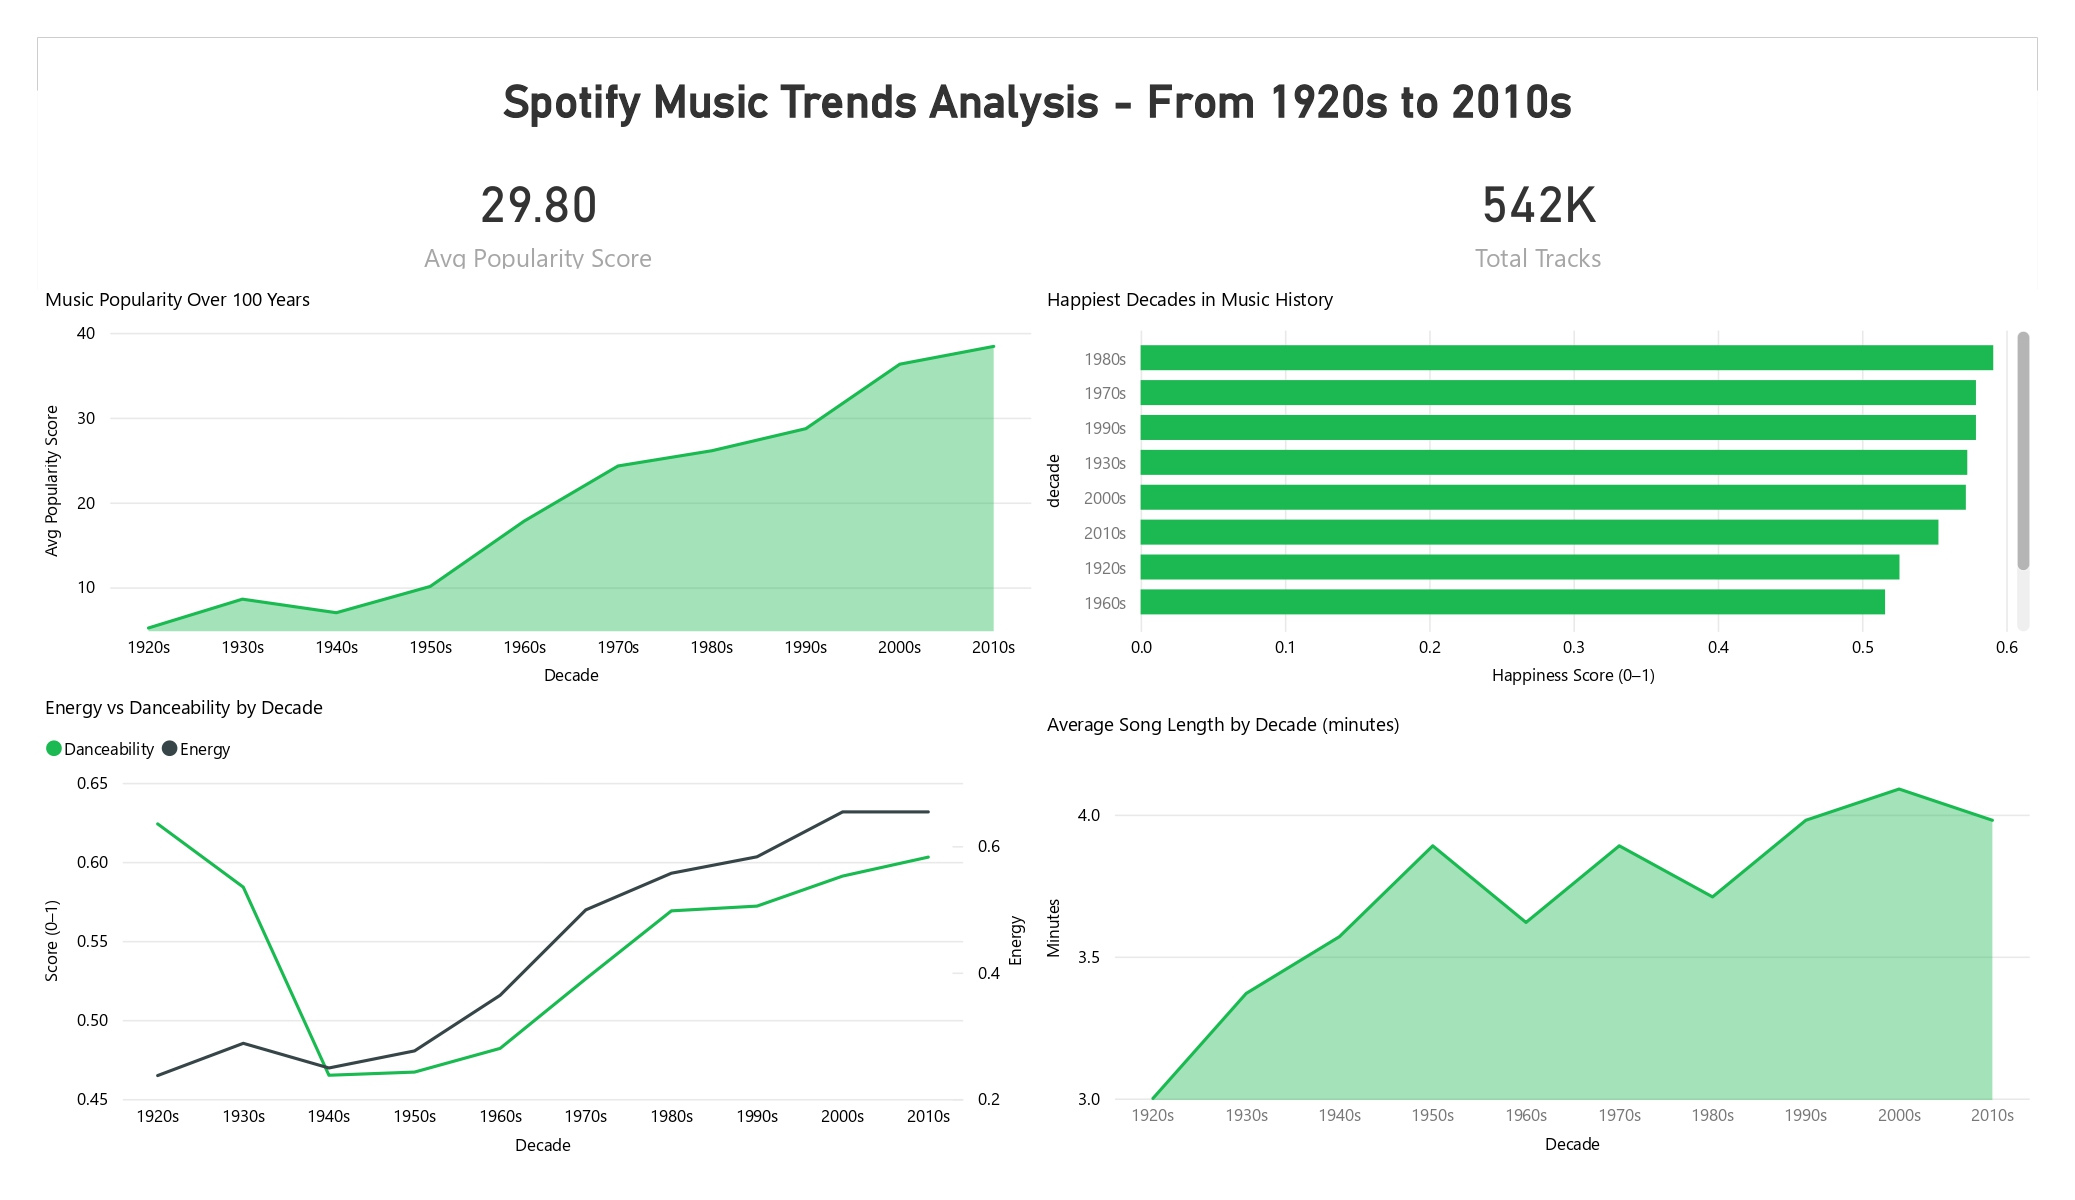

The page's visual inventory and layout, read from the dashboard file:
{"tool":"powerbi","page":{"name":"Music Trends","canvas":[1280,720],"ordinal":0},"visuals":[{"type":"textbox","box":[10,290,280,280],"z":0},{"type":"card","fields":{"Values":["results_audio_trends.Avg Popularity Score"]},"box":[0,75.5,640.8,77.6],"z":1000},{"type":"textbox","box":[0,0,1279.6,63.3],"z":2000},{"type":"lineChart","title":"Music Popularity Over 100 Years","fields":{"Category":["results_popularity_by_decade.decade"],"Y":["Avg(results_popularity_by_decade.avg_popularity)"]},"box":[0,159.2,640.8,261.2],"z":3000},{"type":"card","fields":{"Values":["results_audio_trends.Total Tracks"]},"box":[640.8,75.5,638.8,77.6],"z":4000},{"type":"lineChart","title":"Energy vs Danceability by Decade","fields":{"Y":["Avg(results_audio_trends.avg_danceability)"],"Y2":["Avg(results_audio_trends.avg_energy)"],"Category":["results_audio_trends.decade"]},"box":[0,420.4,640.8,300],"z":5000},{"type":"areaChart","title":"Average Song Length by Decade (minutes)","fields":{"Category":["results_song_length.decade"],"Y":["Avg(results_song_length.avg_duration_min)"]},"box":[640.8,430.6,638.8,289.8],"z":6000},{"type":"clusteredBarChart","title":"Happiest Decades in Music History","fields":{"Category":["results_happiness_by_decade.decade"],"Y":["Avg(results_happiness_by_decade.avg_happiness)"]},"box":[640.8,159.2,638.8,261.2],"z":7000}]}

Visuals, with their boxes on the page's 1280x720 design canvas (x1, y1, x2, y2). These are canvas units, not pixel positions in the 2075x1200 screenshot, which may show the page scaled, cropped or inside an application window:
textbox: 10, 290, 290, 570
card - results_audio_trends.Avg Popularity Score: 0, 76, 641, 153
textbox: 0, 0, 1280, 63
"Music Popularity Over 100 Years" lineChart: 0, 159, 641, 420
card - results_audio_trends.Total Tracks: 641, 76, 1280, 153
"Energy vs Danceability by Decade" lineChart: 0, 420, 641, 720
"Average Song Length by Decade (minutes)" areaChart: 641, 431, 1280, 720
"Happiest Decades in Music History" clusteredBarChart: 641, 159, 1280, 420
